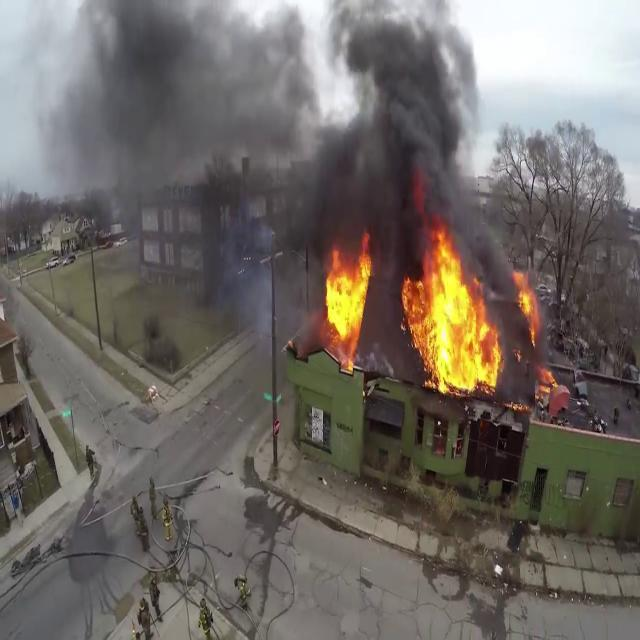Fire: (401, 227, 503, 396), (322, 244, 372, 364), (513, 267, 540, 345)
Smoke: (29, 0, 508, 272)
